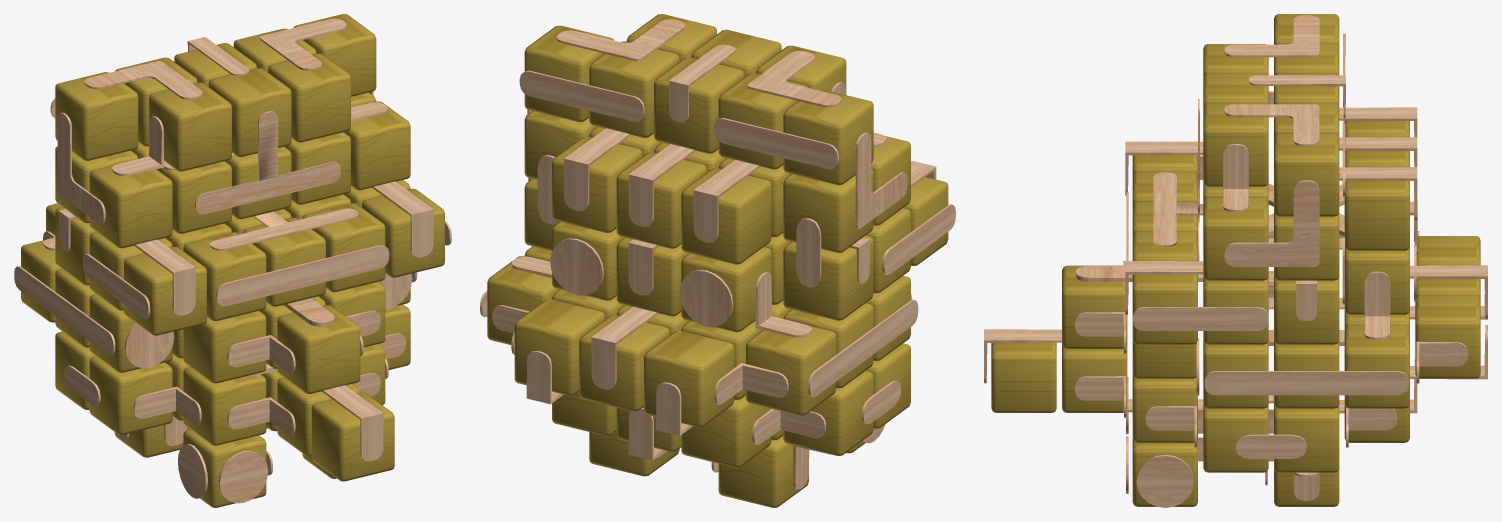
Rendered from level_132.fbx.
3 views of the same model, side by side, from view 1: azimuth 30°, elevation 25°; view 2: azimuth 150°, elevation 25°; view 3: azimuth 270°, elevation 25° (orthographic). The views are drawn at different scales.
Parts seen in each view (by area): view 1: Cube_L4_20.006, Cube_L4_20.021, Cube_L4_20.008, Cube_L4_20.060, Cube_L4_20.004, Cube_L4_20.062, Link_59, Cube_L4_20.002, Cube_L4_20.015, Link_53, Cube_L4_20.078, Cube_L4_20.039 (+56 smaller); view 2: Cube_L4_20.055, Cube_L4_20.017, Cube_L4_20.049, Cube_L4_20.048, Cube_L4_20.006, Cube_L4_20.034, Cube_L4_20.018, Cube_L4_20.001, Cube_L4_20.010, Cube_L4_20.042, Cube_L4_20.013, Cube_L4_20.003 (+58 smaller); view 3: Link_31, Cube_L4_20.013, Cube_L4_20.062, Cube_L4_20.007, Cube_L4_20.049, Cube_L4_20.015, Link_63, Cube_L4_20.004, Cube_L4_20.047, Cube_L4_20.075, Cube_L4_20.071, Cube_L4_20.035 (+51 smaller).
Boxes of the visible parts, bbox=[...] form: Cube_L4_20.006: bbox=[55, 72, 138, 160]; Cube_L4_20.021: bbox=[89, 166, 172, 248]; Cube_L4_20.008: bbox=[149, 82, 231, 171]; Cube_L4_20.060: bbox=[277, 305, 360, 393]; Cube_L4_20.004: bbox=[268, 53, 350, 142]; Cube_L4_20.062: bbox=[311, 392, 394, 481]; Link_59: bbox=[195, 111, 340, 214]; Cube_L4_20.002: bbox=[208, 68, 291, 156]; Cube_L4_20.015: bbox=[344, 101, 410, 190]; Link_53: bbox=[216, 245, 389, 306]; Cube_L4_20.078: bbox=[89, 356, 172, 434]; Cube_L4_20.039: bbox=[124, 247, 206, 335]; Cube_L4_20.055: bbox=[644, 330, 734, 427]; Cube_L4_20.017: bbox=[681, 168, 771, 264]; Cube_L4_20.049: bbox=[514, 299, 604, 395]; Cube_L4_20.048: bbox=[746, 325, 836, 415]; Cube_L4_20.006: bbox=[783, 88, 873, 185]; Cube_L4_20.034: bbox=[783, 235, 873, 320]; Cube_L4_20.018: bbox=[783, 169, 873, 252]; Cube_L4_20.001: bbox=[654, 57, 744, 153]; Cube_L4_20.010: bbox=[616, 152, 706, 248]; Cube_L4_20.042: bbox=[579, 315, 669, 411]; Cube_L4_20.013: bbox=[552, 136, 642, 232]; Cube_L4_20.003: bbox=[589, 41, 679, 137]; Link_31: bbox=[1204, 371, 1408, 395]; Cube_L4_20.013: bbox=[1344, 180, 1409, 250]; Cube_L4_20.062: bbox=[991, 342, 1056, 412]; Cube_L4_20.007: bbox=[1274, 133, 1339, 216]; Cube_L4_20.049: bbox=[1415, 295, 1480, 378]; Cube_L4_20.015: bbox=[1203, 197, 1268, 280]; Link_63: bbox=[1224, 180, 1319, 266]; Cube_L4_20.004: bbox=[1203, 103, 1268, 186]; Cube_L4_20.047: bbox=[1344, 325, 1409, 408]; Cube_L4_20.075: bbox=[1274, 404, 1339, 472]; Cube_L4_20.071: bbox=[1203, 405, 1268, 472]; Cube_L4_20.035: bbox=[1274, 276, 1339, 344].
Size of the model in its own units: 10.33 by 12.17 by 14.42.
